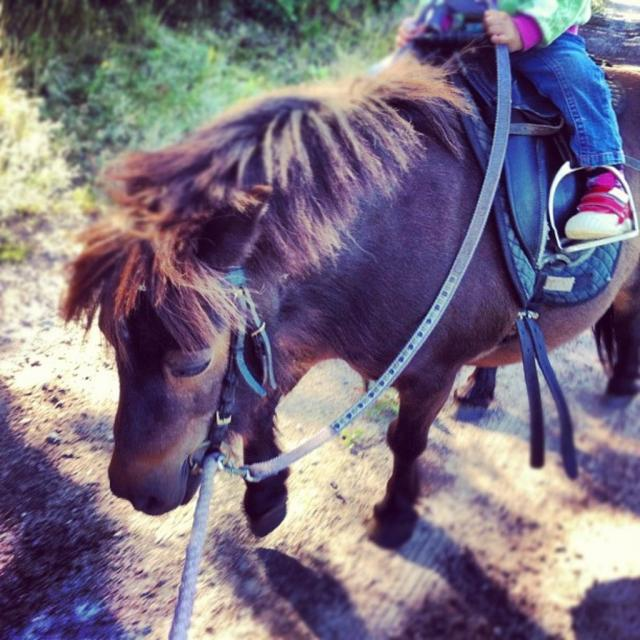Horse: (57, 0, 640, 550)
